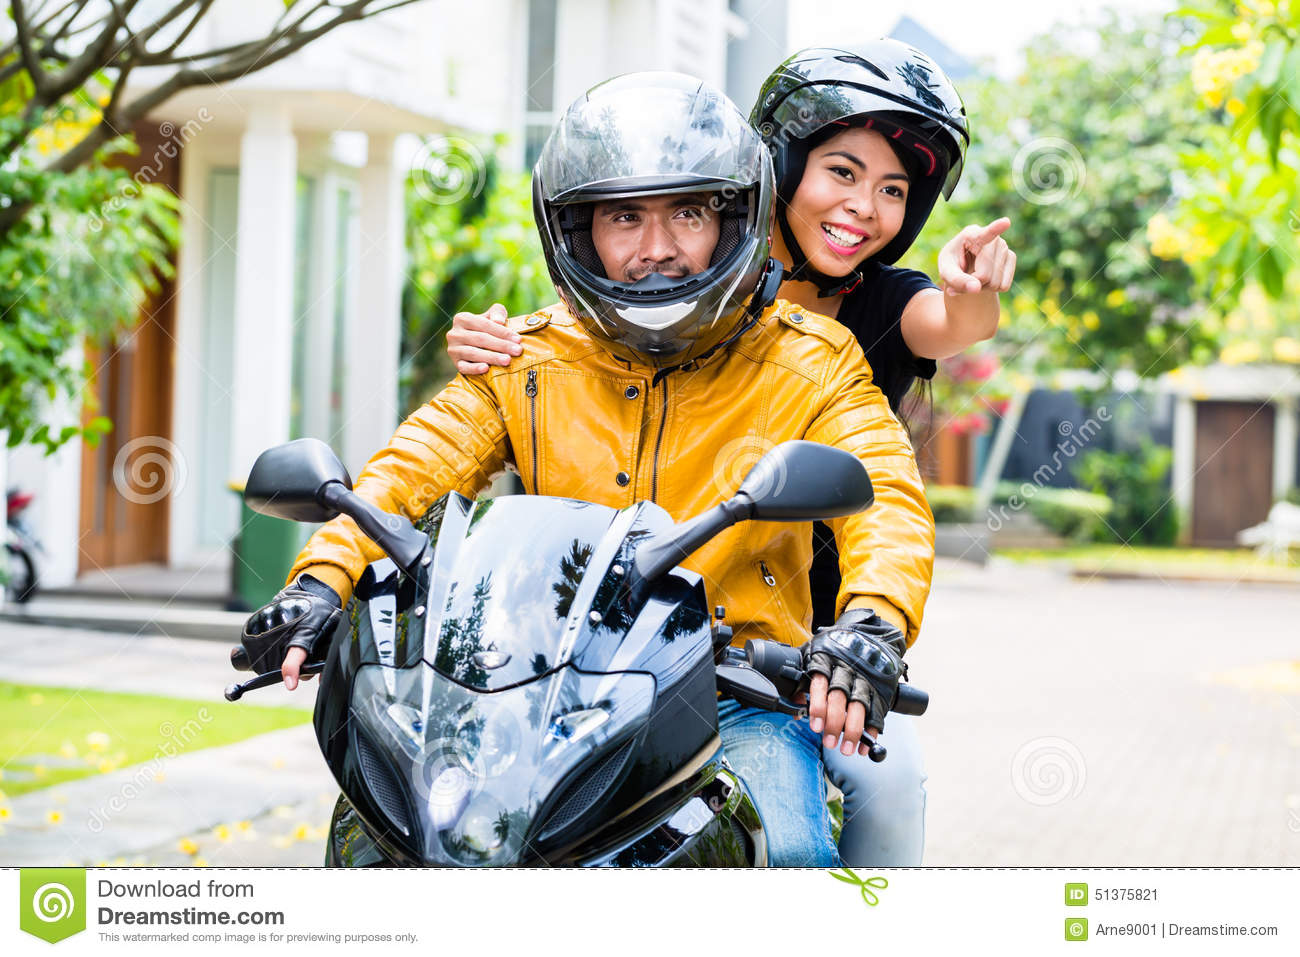helmet: (523, 79, 773, 338), (766, 24, 970, 210)
